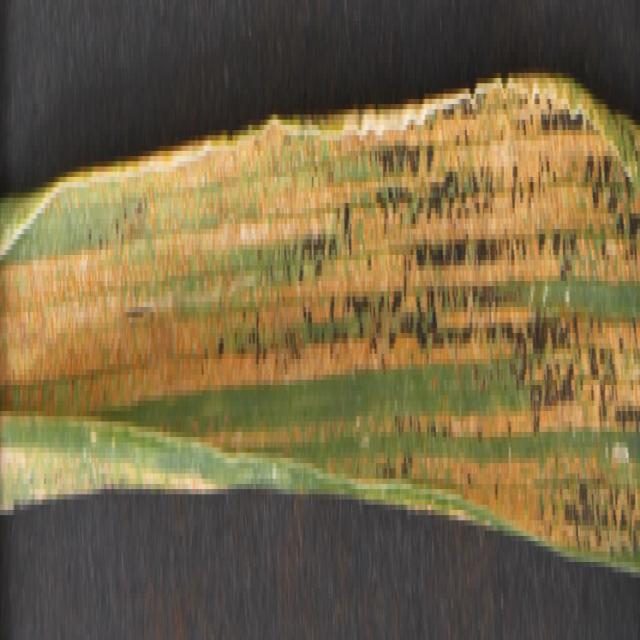leaf rust: (1, 83, 639, 562)
